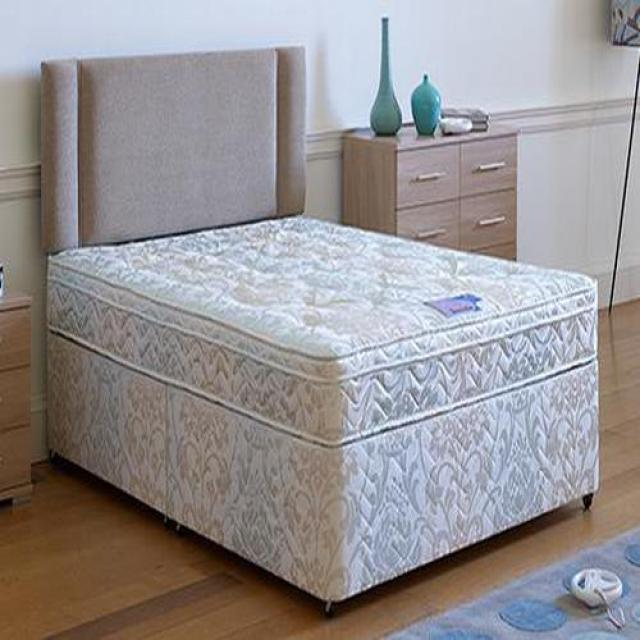bed: (40, 46, 602, 607)
